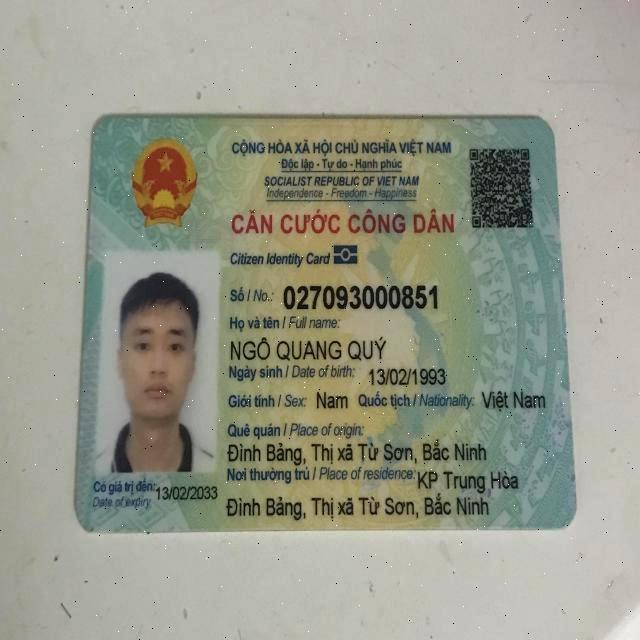current_place: (226, 492, 491, 522), (416, 464, 520, 494)
dob: (367, 363, 446, 388)
expire_date: (156, 480, 220, 506)
gender: (315, 386, 351, 412)
id: (280, 279, 443, 308)
name: (229, 334, 389, 361)
nationality: (480, 388, 545, 412)
origin_place: (226, 437, 488, 464)
